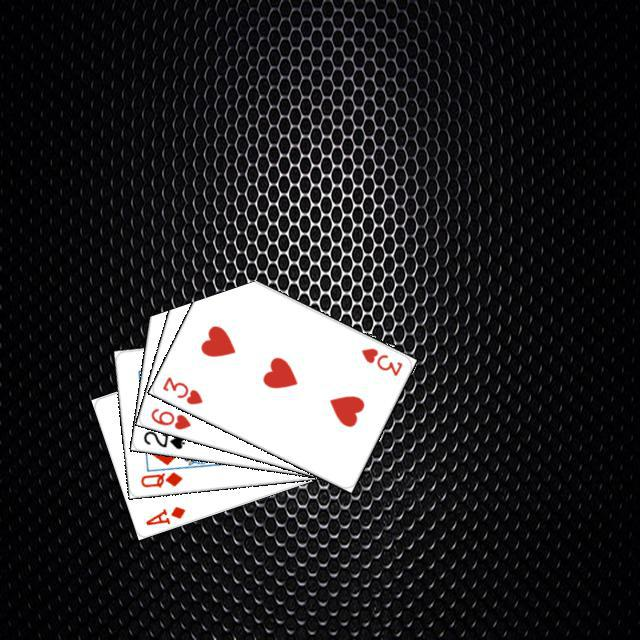2s: (139, 426, 186, 451)
3h: (356, 343, 404, 378), (157, 371, 204, 406)
6h: (146, 403, 193, 431)
Ad: (140, 501, 187, 527)
Qd: (136, 467, 184, 489)
